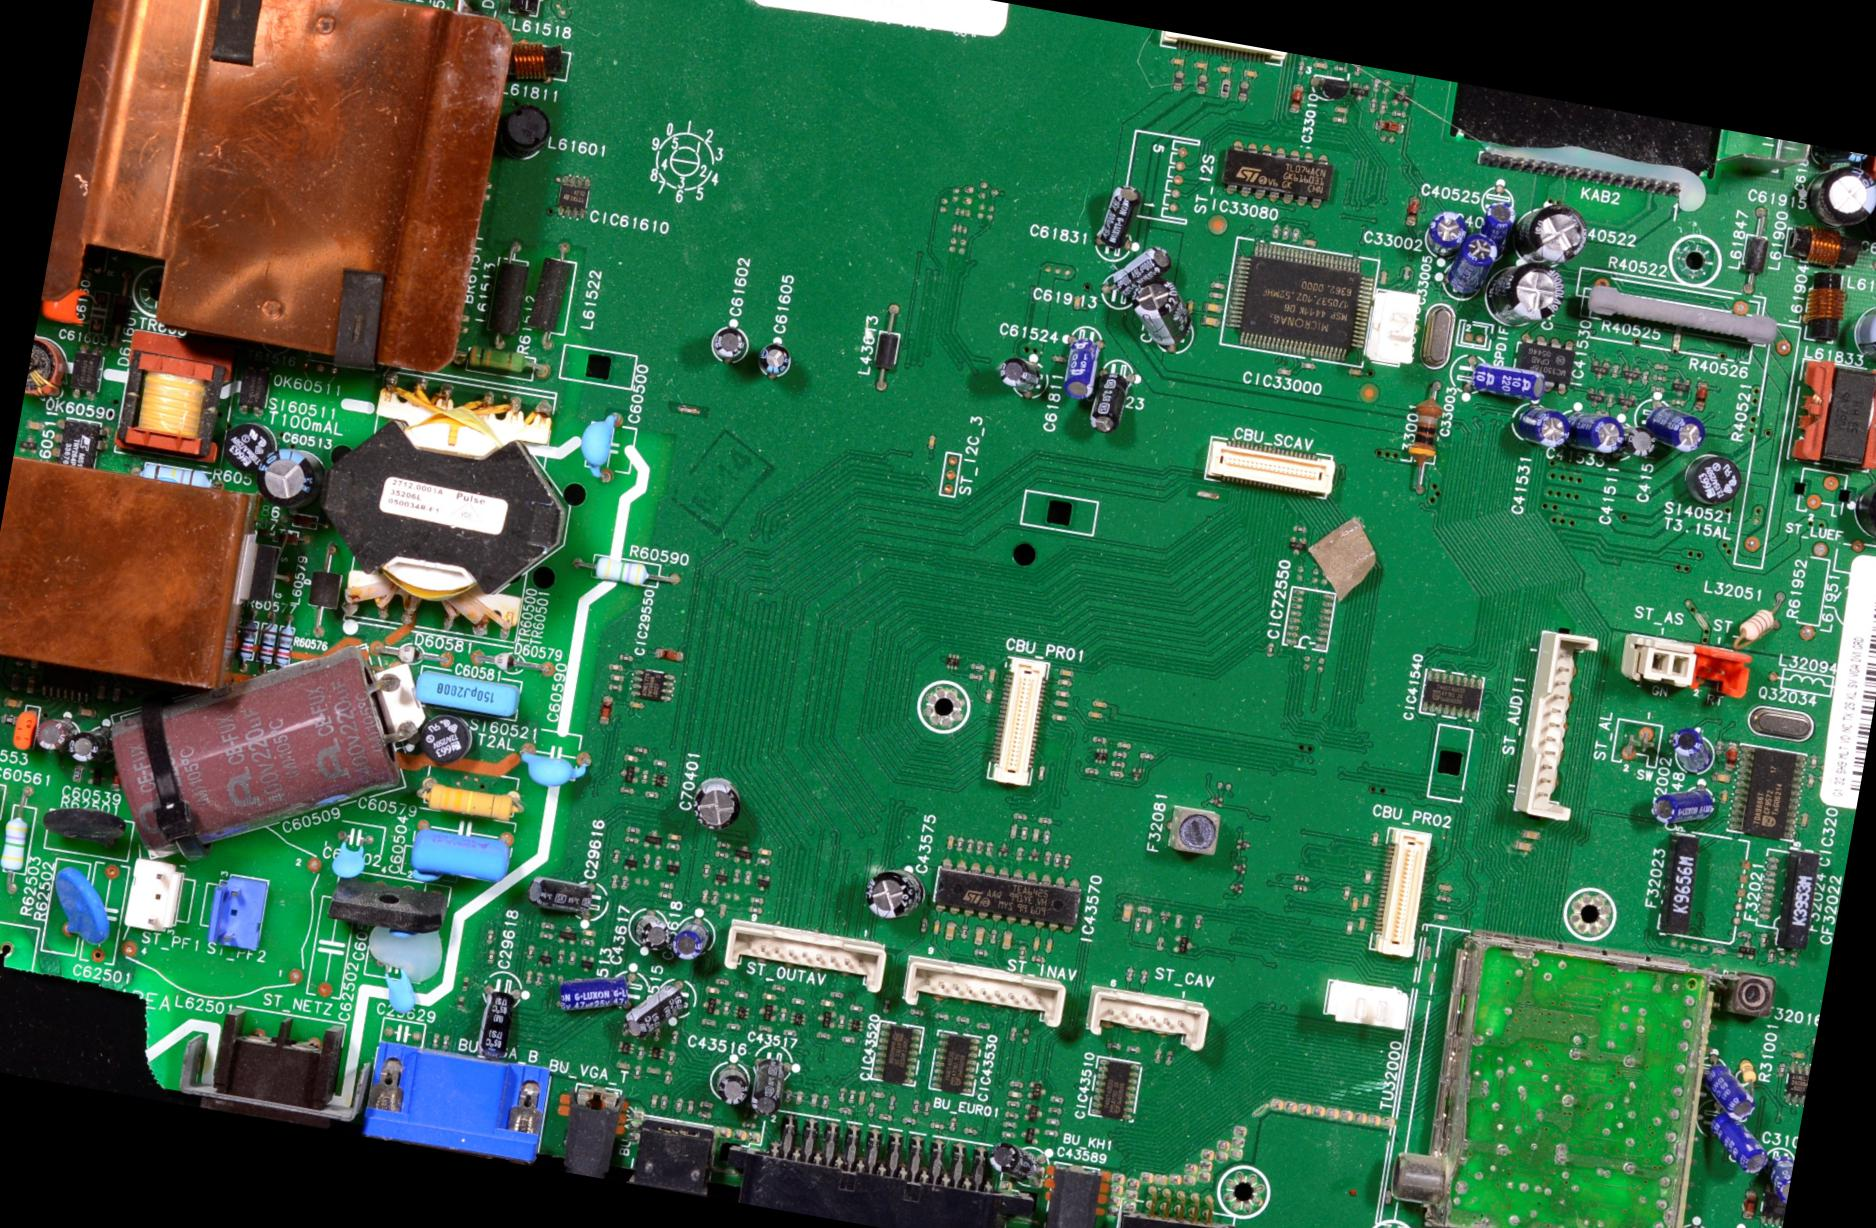Capacitor Jumper: (118, 647, 407, 859), (407, 820, 517, 888), (1128, 274, 1202, 351), (1687, 1106, 1768, 1175), (412, 669, 523, 715), (1495, 259, 1568, 329), (574, 407, 629, 492), (1518, 200, 1588, 266), (1802, 164, 1875, 228), (629, 979, 696, 1042), (254, 445, 317, 508), (862, 863, 928, 924), (514, 741, 596, 789), (1570, 406, 1633, 467), (471, 973, 523, 1047), (1458, 359, 1546, 402), (37, 274, 100, 333), (322, 824, 382, 884), (551, 970, 630, 1014), (1655, 774, 1718, 828), (1507, 403, 1570, 455), (1696, 1050, 1747, 1113), (528, 876, 604, 917), (1057, 333, 1103, 399), (1096, 184, 1146, 245), (1114, 237, 1162, 300), (1644, 402, 1707, 450), (991, 347, 1047, 400), (1666, 720, 1720, 774), (747, 1051, 792, 1116), (989, 1142, 1054, 1187), (1087, 363, 1131, 428), (689, 777, 740, 829), (707, 1058, 755, 1113), (374, 968, 423, 1016), (1458, 234, 1501, 289), (1427, 207, 1474, 255), (626, 906, 673, 954), (1617, 423, 1661, 466), (667, 918, 713, 959), (64, 726, 107, 769), (30, 714, 71, 758), (1480, 197, 1521, 241), (1310, 67, 1355, 106), (1850, 297, 1875, 365), (708, 322, 750, 360), (81, 243, 122, 281), (11, 703, 40, 751), (1855, 476, 1875, 540), (756, 340, 789, 376), (1825, 147, 1872, 171), (1670, 1216, 1718, 1227)
Connector: (1511, 625, 1609, 828), (900, 953, 1067, 1032), (722, 918, 888, 994), (981, 647, 1061, 785), (1199, 430, 1347, 502), (1362, 824, 1437, 959), (1083, 985, 1214, 1053), (1150, 29, 1295, 70)
IC: (1217, 234, 1380, 366), (932, 858, 1087, 937), (1723, 737, 1814, 840), (1214, 136, 1329, 206), (1413, 659, 1494, 728), (1080, 1053, 1148, 1124), (865, 1016, 929, 1090), (1279, 580, 1340, 656), (926, 1028, 988, 1101), (44, 413, 112, 471), (545, 167, 602, 223), (1753, 1139, 1797, 1205), (628, 662, 681, 706), (1776, 1058, 1810, 1105), (1753, 1196, 1786, 1227)
Resistor Jumper: (41, 855, 115, 957), (415, 776, 532, 828), (42, 803, 137, 859), (458, 337, 556, 380), (0, 789, 42, 883), (582, 552, 661, 592), (1736, 603, 1788, 647), (255, 613, 284, 669), (274, 617, 301, 673), (236, 609, 266, 659), (1733, 1054, 1769, 1094), (1692, 377, 1718, 421)
